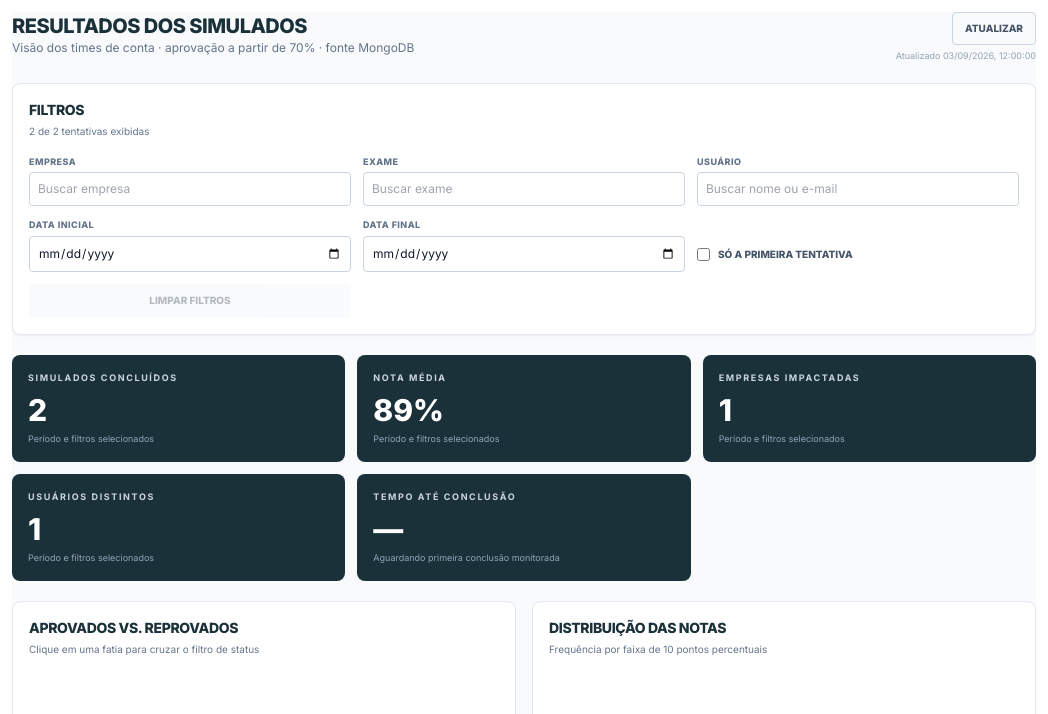
AdminResultsDashboard › mostra a tentativa e filtra só a primeira de cada usuário
Expected: the text "2 de 2 tentativas exibidas" is shown, [29, 124, 150, 136]
Click the checkbox labelled "Só a primeira tentativa": (704, 254) [697, 248, 710, 261]
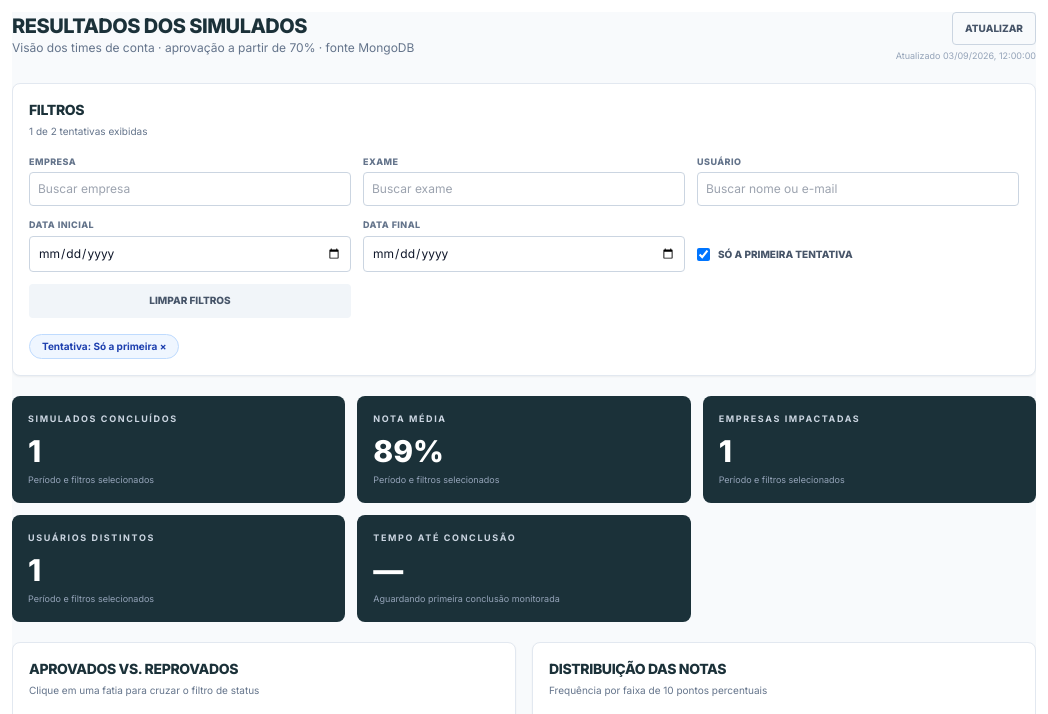
Expected: the text "1 de 2 tentativas exibidas" is shown, [29, 124, 147, 136]
